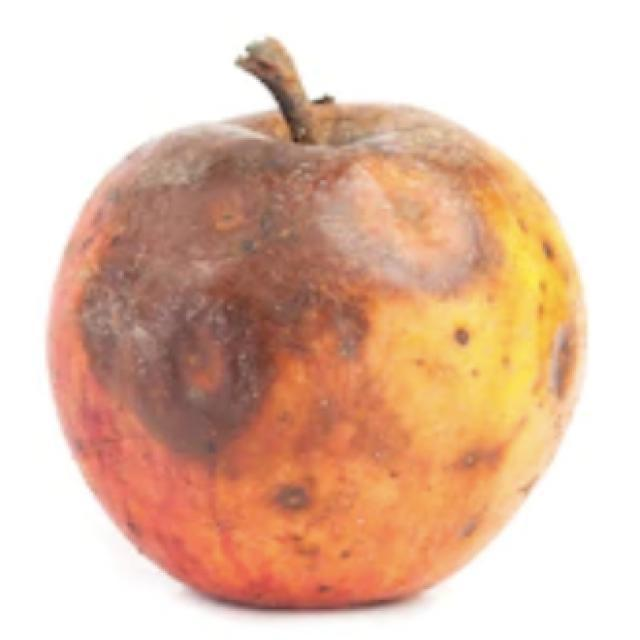Rotten: (68, 113, 582, 610)
